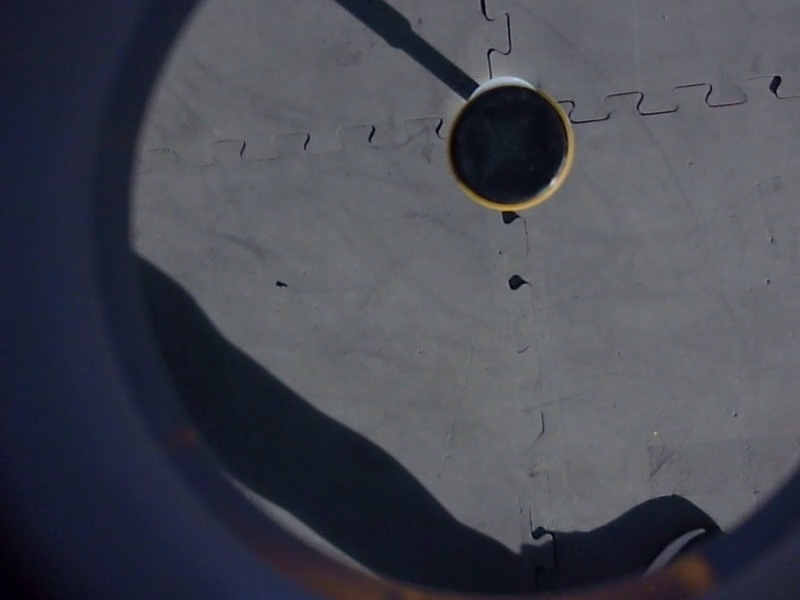tip: (438, 77, 582, 218)
